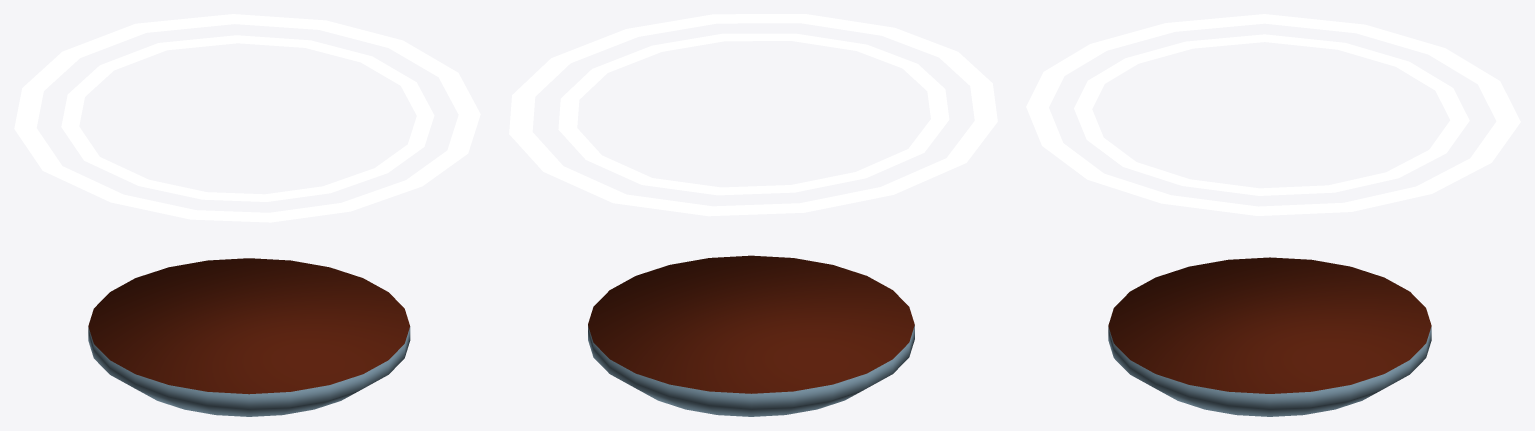
File: TheWhale_Action_Elevator.glb
The picture shows the model from 3 angles, left to right: view 1: azimuth 30°, elevation 25°; view 2: azimuth 150°, elevation 25°; view 3: azimuth 270°, elevation 25°; orthographic projection.
Parts seen in each view (by area): view 1: TheWhale_Action_Elevator, TheWhale_Action_ElevatorLight; view 2: TheWhale_Action_Elevator, TheWhale_Action_ElevatorLight; view 3: TheWhale_Action_Elevator, TheWhale_Action_ElevatorLight.
Boxes of the visible parts, x1=… form: TheWhale_Action_Elevator: x1=88, y1=258, x2=410, y2=416; TheWhale_Action_ElevatorLight: x1=14, y1=14, x2=480, y2=222; TheWhale_Action_Elevator: x1=588, y1=255, x2=914, y2=416; TheWhale_Action_ElevatorLight: x1=509, y1=14, x2=997, y2=216; TheWhale_Action_Elevator: x1=1108, y1=257, x2=1431, y2=416; TheWhale_Action_ElevatorLight: x1=1026, y1=14, x2=1520, y2=215.
Size of what is drawn, in the model's own units: 15.32 by 8.67 by 15.85.
2 materials, 2 textured.
